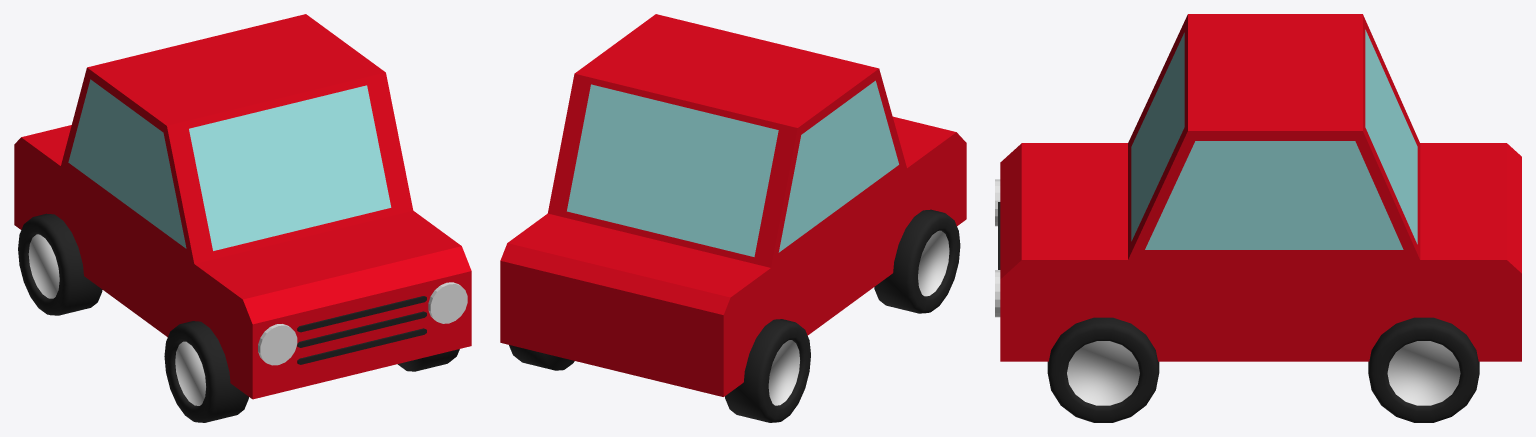
File: Car_2.fbx
3 views of the same model, side by side, from view 1: azimuth 30°, elevation 25°; view 2: azimuth 150°, elevation 25°; view 3: azimuth 270°, elevation 25° (orthographic). The views are drawn at different scales.
Visible parts, largest first — view 1: Cylinder.032; view 2: Cylinder.032; view 3: Cylinder.032.
Boxes of the visible parts, <box> form: Cylinder.032: <box>14,14,471,422</box>; Cylinder.032: <box>500,14,966,422</box>; Cylinder.032: <box>995,14,1521,422</box>.
Bounding box in the file's own units: 273 × 272 × 453.
